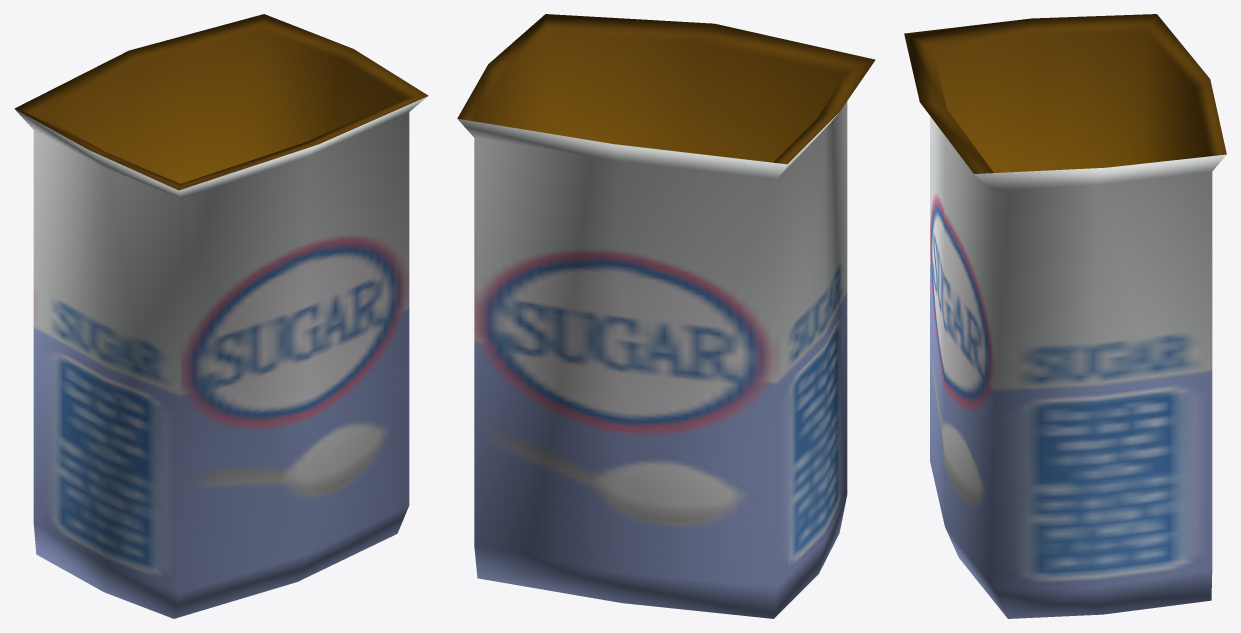
The model's file is SugarBagEmpty.fbx.
3 views of the same model, side by side, from view 1: azimuth 30°, elevation 25°; view 2: azimuth 150°, elevation 25°; view 3: azimuth 270°, elevation 25° (orthographic). The views are drawn at different scales.
Visible parts, largest first — view 1: Object; view 2: Object; view 3: Object.
Boxes of the visible parts, <box> form: Object: <box>14,14,428,618</box>; Object: <box>457,14,875,618</box>; Object: <box>904,14,1226,618</box>.
Size of the model in its own units: 22.6 by 30.06 by 19.26.
